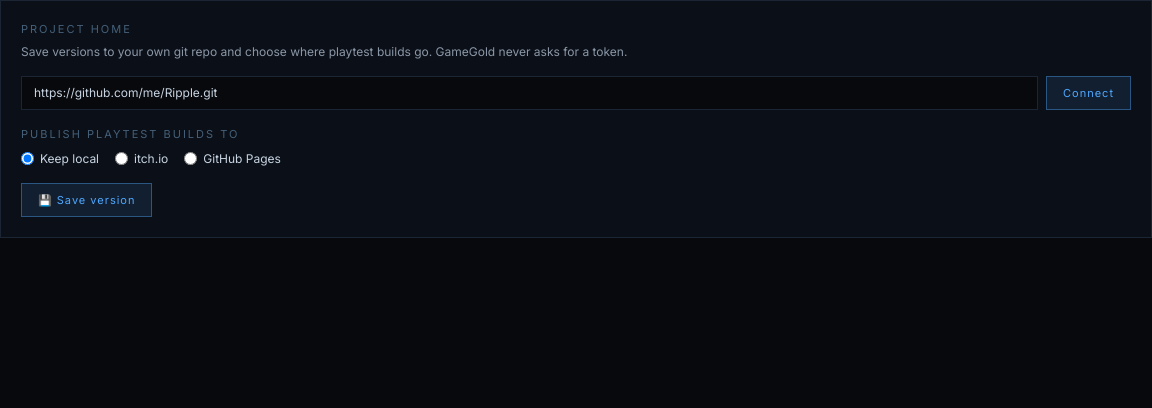
it: ProjectHomeCard › Save version shows the job output when the push fails
The width and height of the screenshot is (1152, 408).
What coordinates should you click on to do the following:
click the button "💾 Save version"
I would click on:
 (87, 200)
Its box is [21, 182, 152, 217].
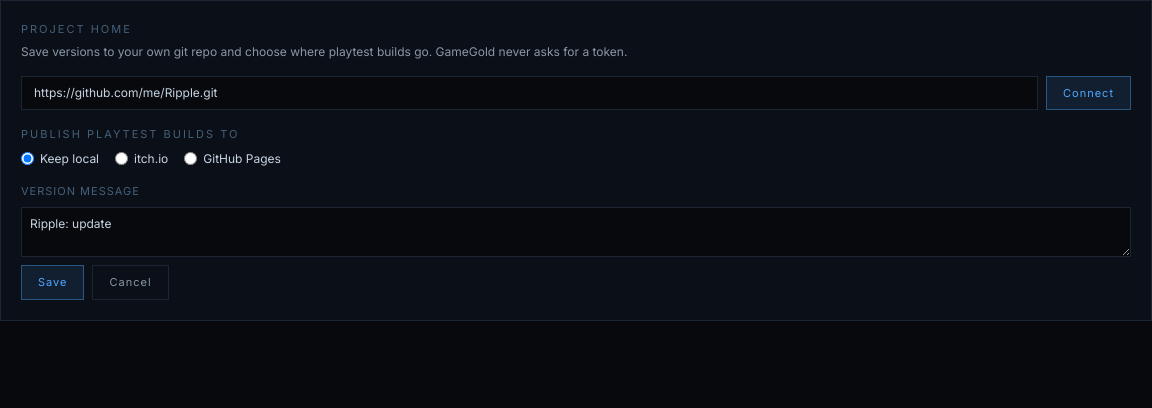
Result: the text box labelled "VERSION MESSAGE" holds "Ripple: update" at [21, 207, 1131, 257]
What coordinates should you click on to do the following:
click the button "Save"
I would click on:
 (53, 282)
Its box is [21, 265, 84, 300].
Wait 2000 ms
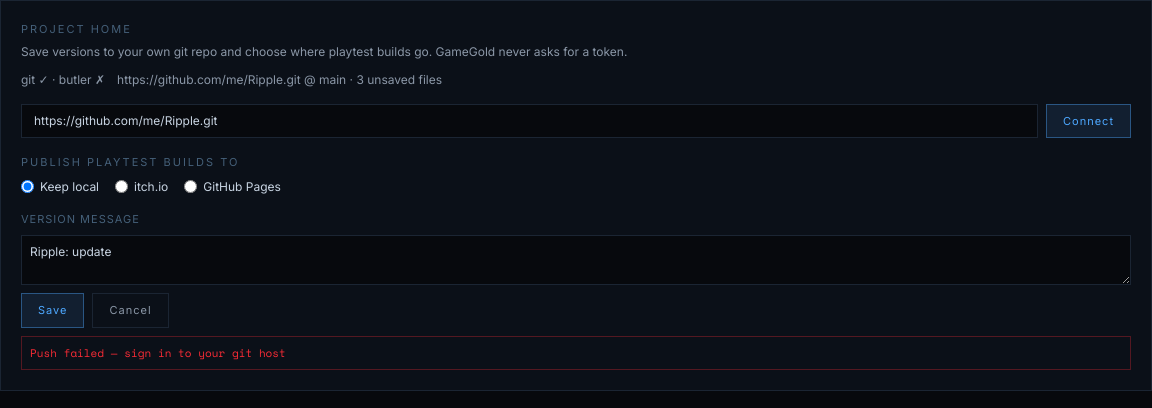
Result: the message reads "Push failed — sign in to your git host" at [30, 344, 286, 360]
